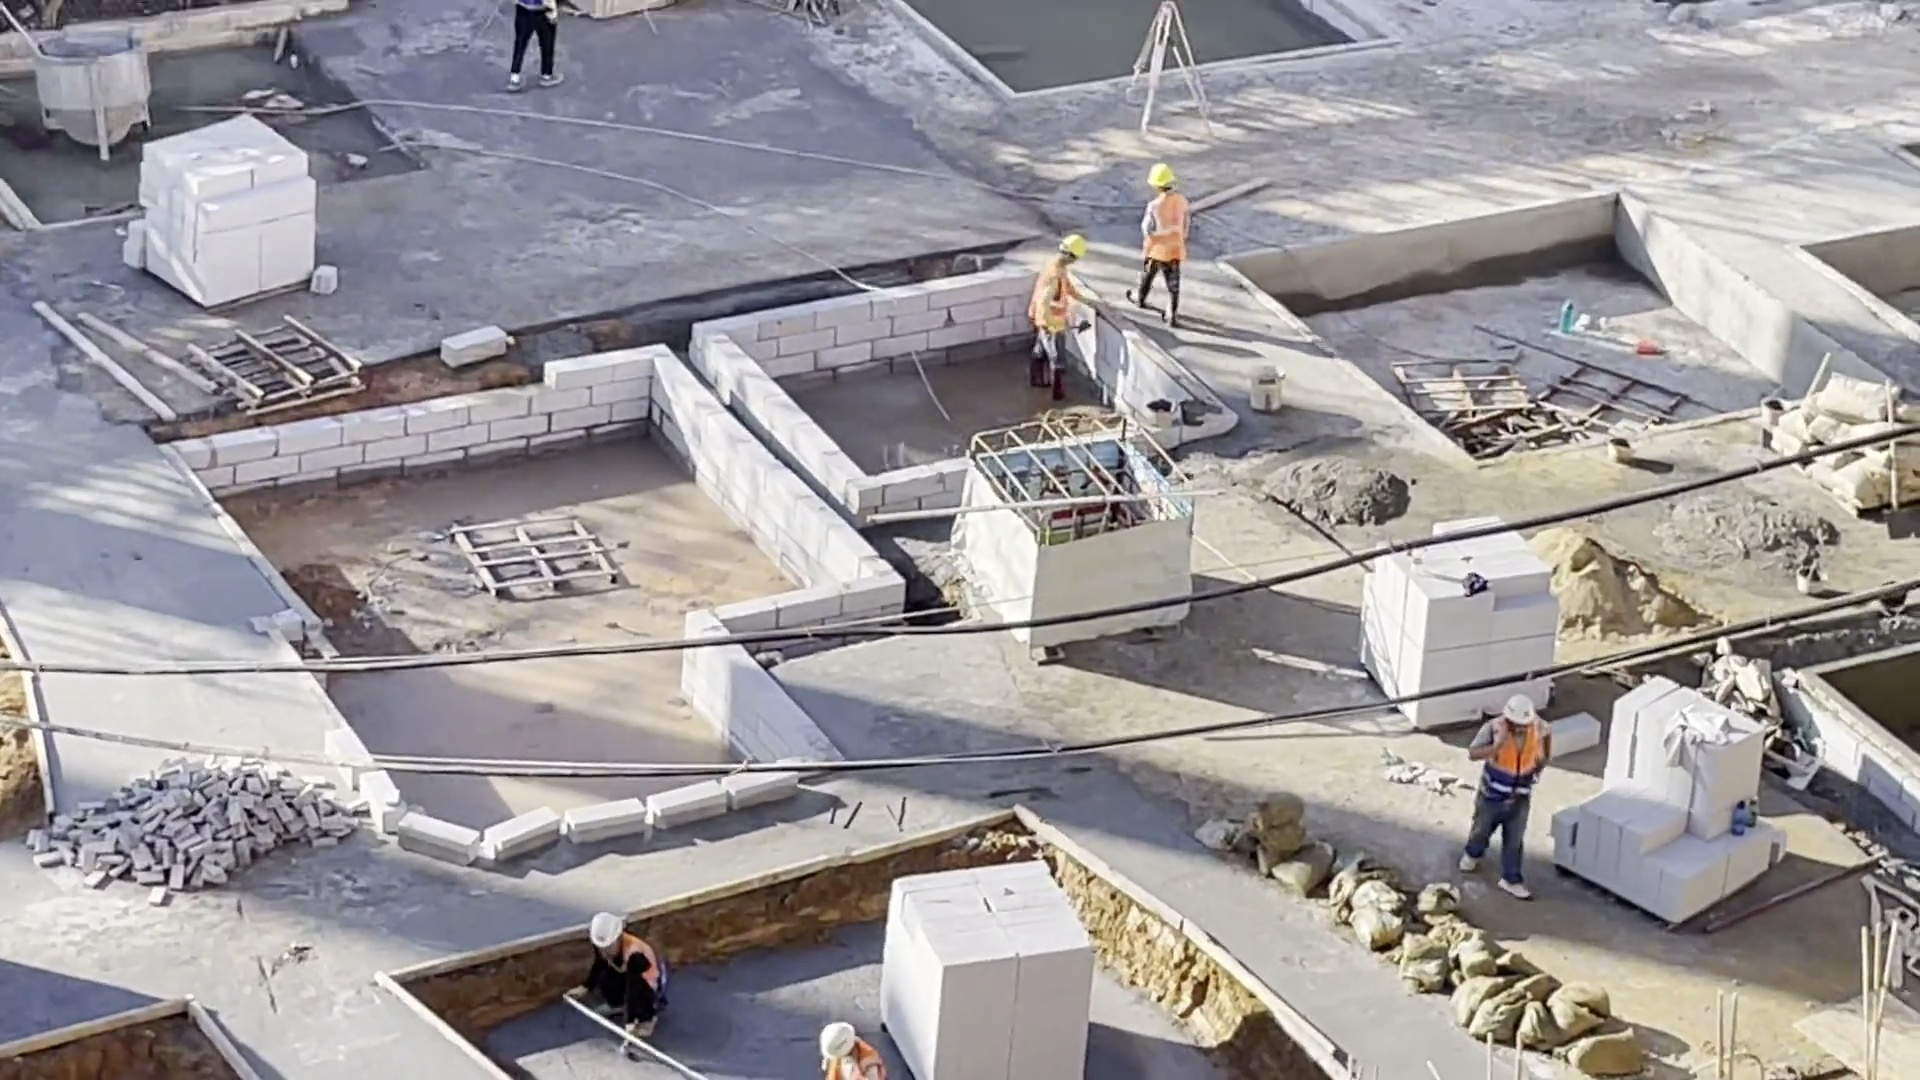brick: (1557, 686, 1798, 919), (878, 856, 1090, 1080), (131, 113, 319, 309), (1349, 563, 1554, 679)
helmet: (817, 1022, 859, 1060), (589, 915, 633, 948), (1504, 698, 1538, 730), (1144, 162, 1179, 187), (1059, 234, 1089, 261)
hopper: (28, 23, 158, 165)
person: (1462, 693, 1551, 904), (574, 912, 666, 1057), (1023, 232, 1095, 401), (1129, 164, 1193, 328), (503, 8, 573, 91), (811, 1019, 884, 1080)
vest: (1483, 714, 1544, 798), (602, 938, 669, 998), (1026, 258, 1076, 333), (1142, 194, 1186, 259)
